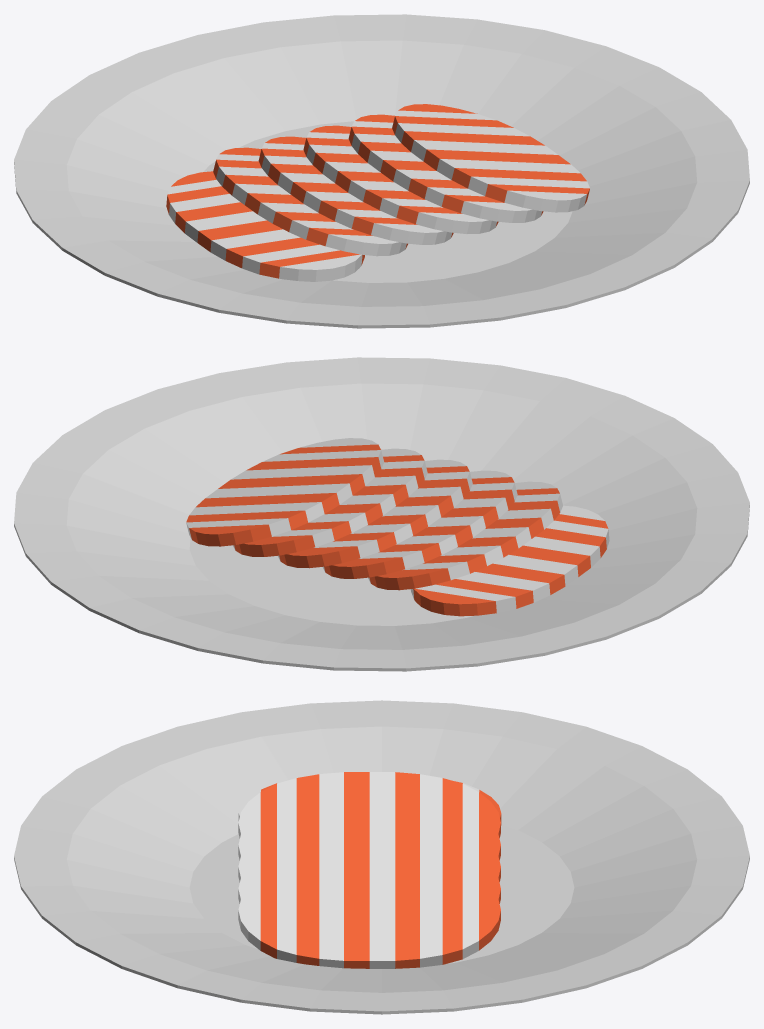
File: RawFish.fbx
The picture shows the model from 3 angles, top to bottom: view 1: azimuth 30°, elevation 25°; view 2: azimuth 150°, elevation 25°; view 3: azimuth 270°, elevation 25°; orthographic projection.
Visible parts, largest first — view 1: 실린더, 실린더.006, 실린더.001, 실린더.002, 실린더.004, 실린더.003, 실린더.005; view 2: 실린더, 실린더.006, 실린더.001, 실린더.002, 실린더.004, 실린더.003, 실린더.005; view 3: 실린더, 실린더.006, 실린더.002, 실린더.004, 실린더.003, 실린더.005.
Boxes of the visible parts, bbox=[...] form: 실린더: bbox=[14, 14, 749, 328]; 실린더.006: bbox=[392, 104, 589, 212]; 실린더.001: bbox=[166, 171, 364, 281]; 실린더.002: bbox=[213, 147, 407, 256]; 실린더.004: bbox=[303, 125, 498, 233]; 실린더.003: bbox=[258, 136, 453, 244]; 실린더.005: bbox=[348, 114, 543, 222]; 실린더: bbox=[14, 357, 749, 671]; 실린더.006: bbox=[186, 438, 383, 546]; 실린더.001: bbox=[410, 505, 609, 616]; 실린더.002: bbox=[368, 481, 562, 590]; 실린더.004: bbox=[278, 459, 472, 568]; 실린더.003: bbox=[322, 470, 517, 578]; 실린더.005: bbox=[233, 448, 427, 556]; 실린더: bbox=[14, 700, 749, 1014]; 실린더.006: bbox=[238, 859, 500, 968]; 실린더.002: bbox=[238, 772, 500, 838]; 실린더.004: bbox=[238, 816, 500, 882]; 실린더.003: bbox=[238, 794, 500, 860]; 실린더.005: bbox=[238, 838, 500, 903].
Size of the model in its own units: 19.13 by 1.44 by 19.13.
